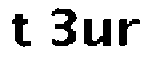3: (48, 6, 78, 51)
r: (119, 16, 143, 47)
t: (9, 13, 37, 50)
u: (80, 16, 112, 51)
